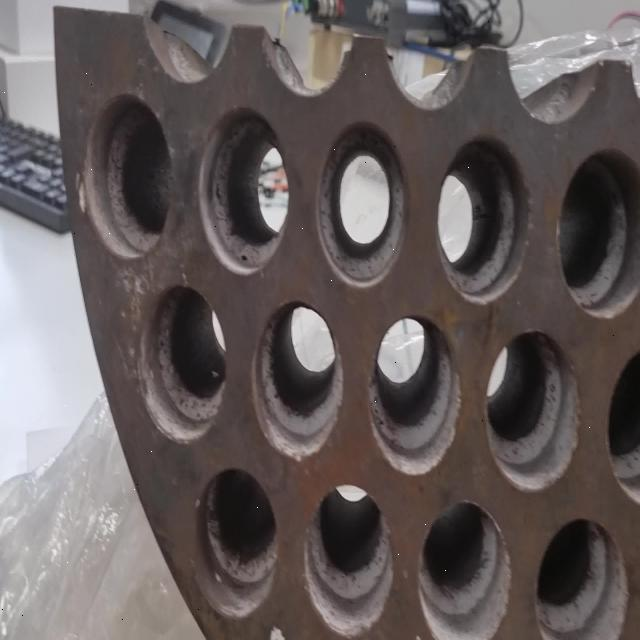Hole: (436, 134, 531, 306), (485, 328, 582, 494), (314, 120, 408, 290), (198, 106, 290, 276), (80, 93, 172, 259), (368, 314, 462, 476), (251, 299, 344, 461), (558, 145, 640, 320), (138, 284, 227, 444), (303, 485, 395, 638), (418, 500, 512, 640), (196, 466, 278, 621), (535, 516, 630, 640), (606, 348, 640, 509)
